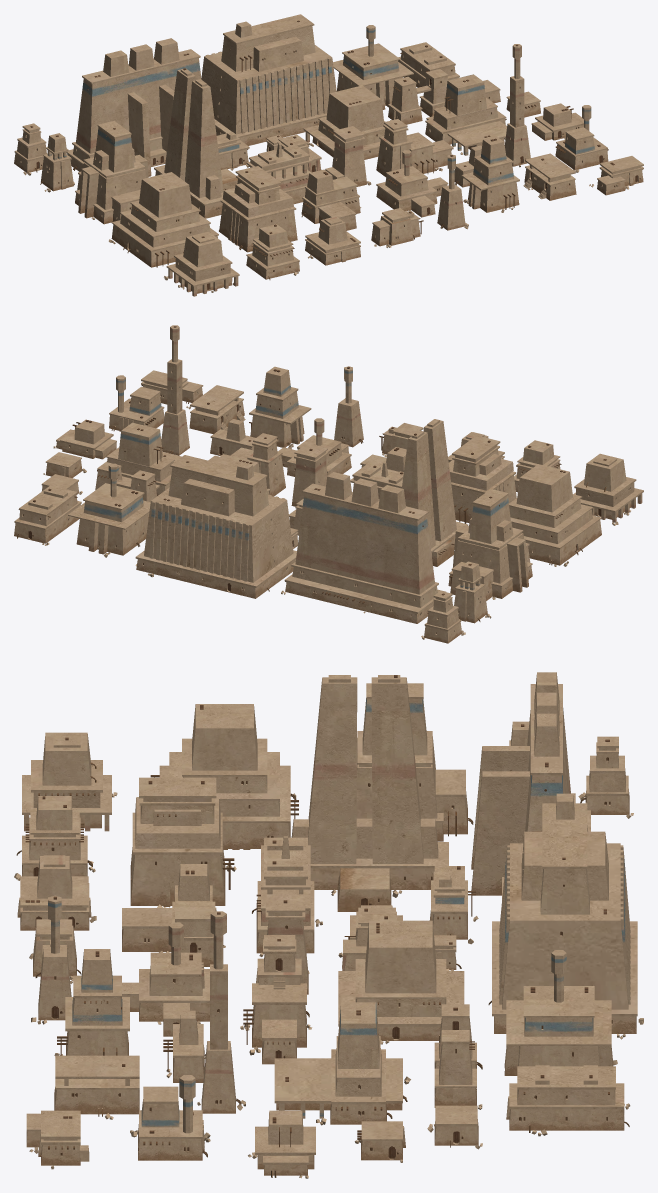
Rendered from chir-transformed.glb.
The picture shows the model from 3 angles, top to bottom: view 1: azimuth 30°, elevation 25°; view 2: azimuth 150°, elevation 25°; view 3: azimuth 270°, elevation 25°; orthographic projection. The views are drawn at different scales.
Parts seen in each view (by area): view 1: Object_2; view 2: Object_2; view 3: Object_2.
Boxes of the visible parts, <box> form: Object_2: <box>14,14,643,296</box>; Object_2: <box>14,325,643,643</box>; Object_2: <box>14,672,643,1178</box>.
Bounding box in the file's own units: 151 × 37.42 × 104.
Materials: 1 (1 with a texture image).
